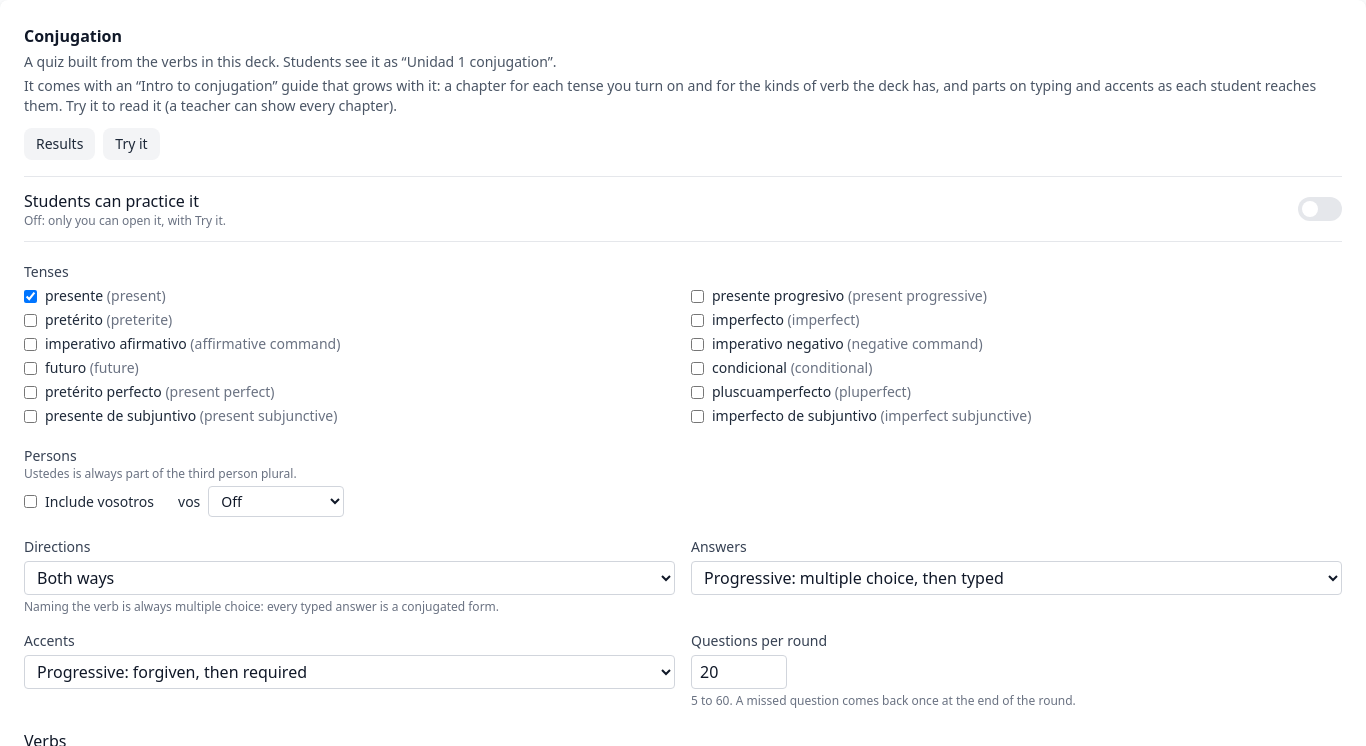
Scenario: ConjugationSettings › discards the draft
Click the checkbox labelled "Include vosotros" at (30, 502), box left=24, top=495, right=37, bottom=508
(page scrolled)
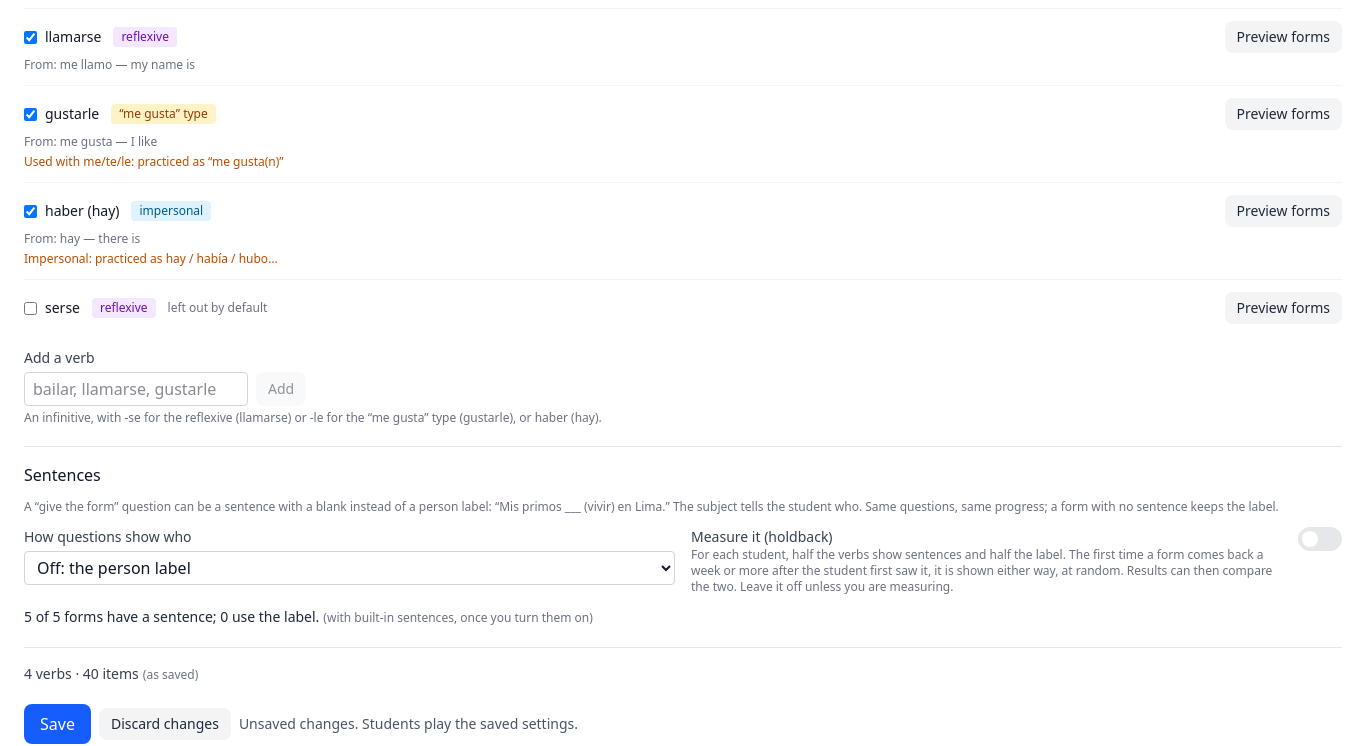
Click the button "Discard changes" at (165, 724), box left=99, top=708, right=231, bottom=740
(page scrolled)
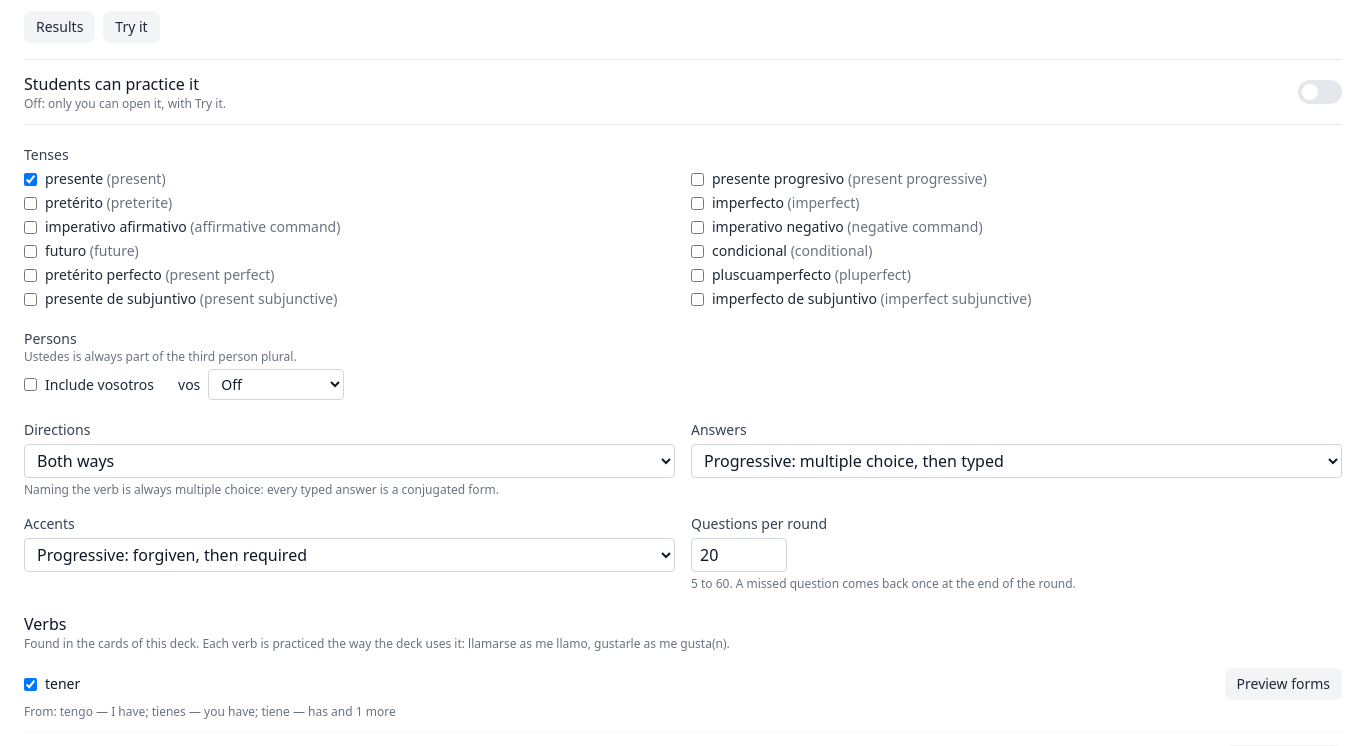
Result: the checkbox labelled "Include vosotros" is not checked at left=24, top=378, right=37, bottom=391
Result: the button "Discard changes" is gone
